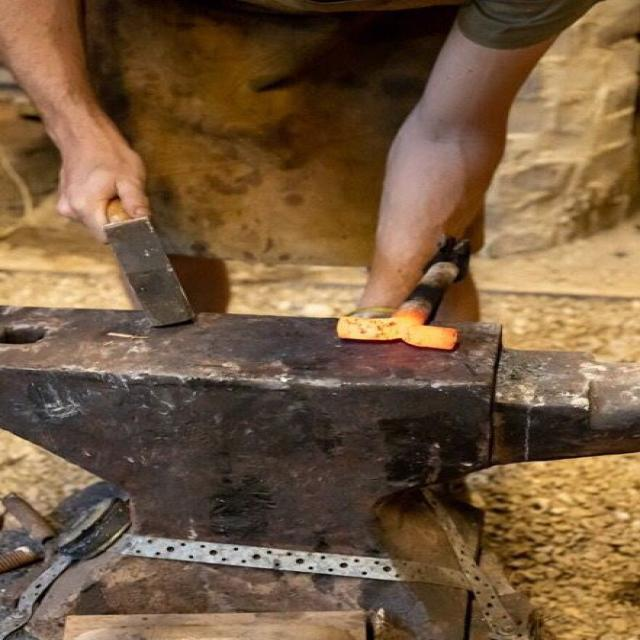hammer: (95, 192, 210, 340)
